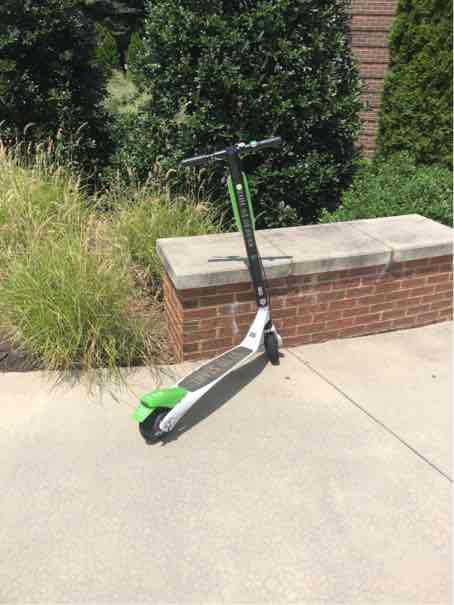scooter: (140, 127, 297, 452)
